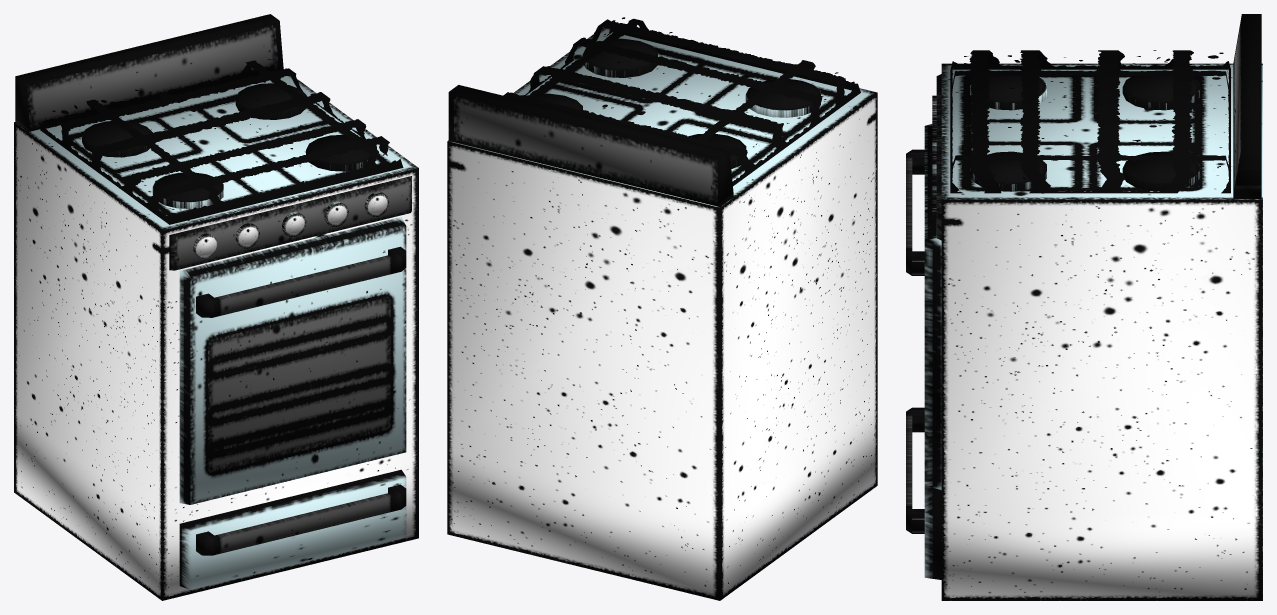
The model's file is HomeOven.obj.
3 views of the same model, side by side, from view 1: azimuth 30°, elevation 25°; view 2: azimuth 150°, elevation 25°; view 3: azimuth 270°, elevation 25° (orthographic). The views are drawn at different scales.
Visible parts, largest first — view 1: Cube; view 2: Cube; view 3: Cube.
Boxes of the visible parts, box(x1,y1,x2,y2) form: Cube: box(14, 14, 418, 600); Cube: box(447, 17, 877, 600); Cube: box(906, 14, 1262, 600).
Bounding box in the file's own units: 2 × 3.1 × 2.22.
